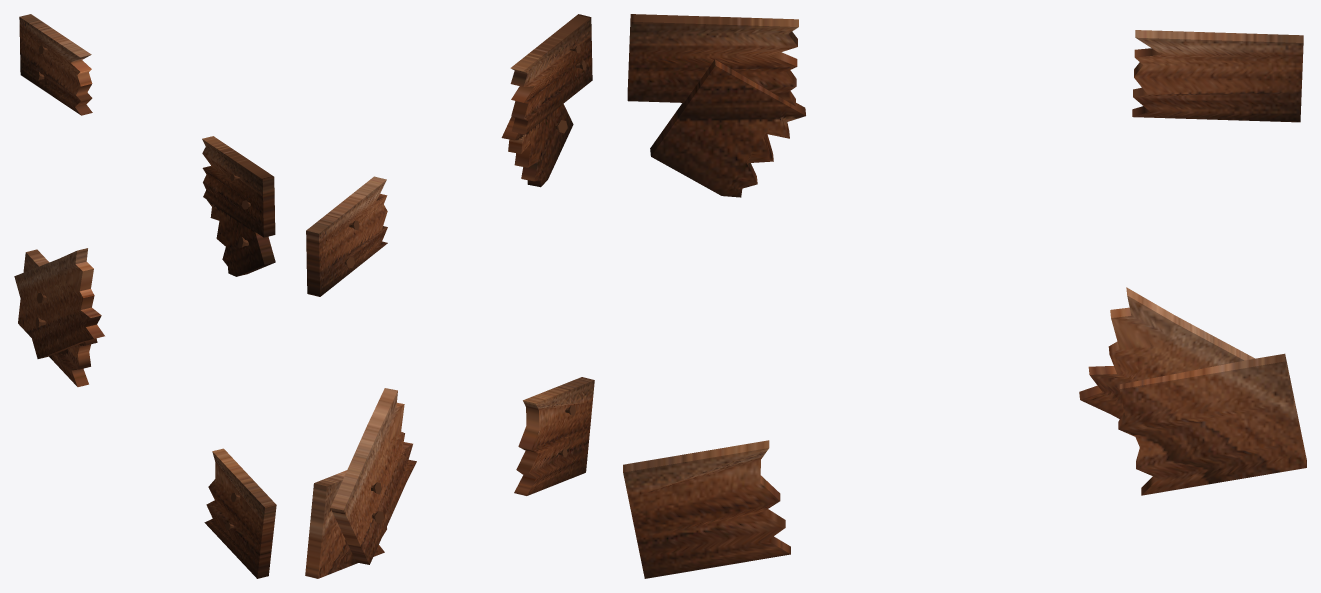
Rendered from Broken_Wood.fbx.
The picture shows the model from 3 angles, left to right: view 1: azimuth 30°, elevation 25°; view 2: azimuth 150°, elevation 25°; view 3: azimuth 270°, elevation 25°; orthographic projection. The views are drawn at different scales.
Parts seen in each view (by area): view 1: pCube17; view 2: pCube17; view 3: pCube17.
Part boxes in pixels (left/top/right/bottom): pCube17: left=14, top=14, right=276, bottom=578; pCube17: left=305, top=14, right=594, bottom=578; pCube17: left=623, top=14, right=1306, bottom=578.
Size of the model in its own units: 0.0564 by 0.5463 by 0.6074.
